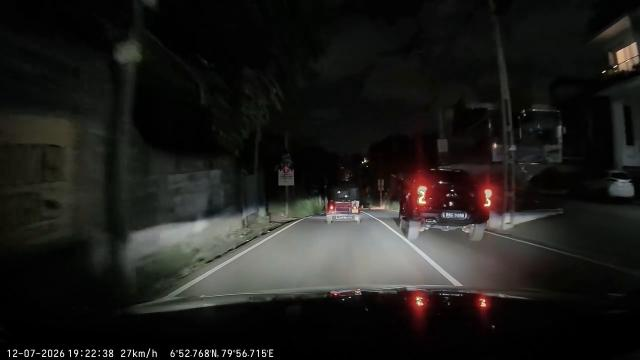illegal overtaking: (390, 162, 504, 253)
number plate: (436, 206, 481, 224)
